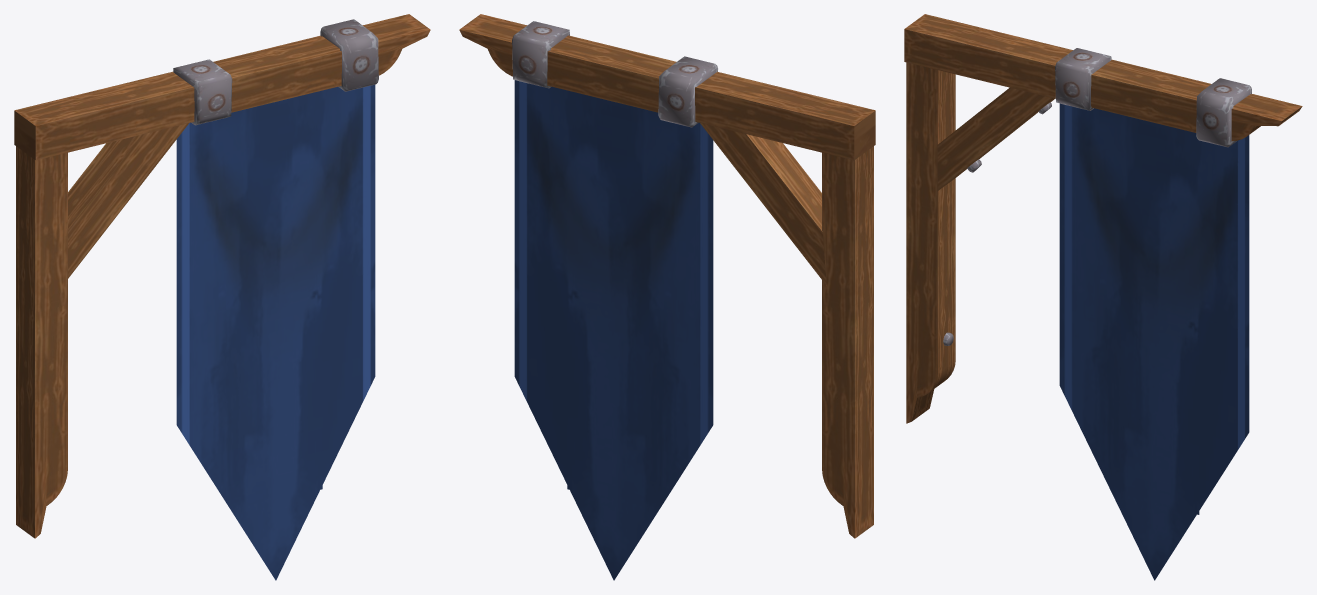
The model's file is Banner_2.gltf.
The picture shows the model from 3 angles, left to right: view 1: azimuth 30°, elevation 25°; view 2: azimuth 150°, elevation 25°; view 3: azimuth 330°, elevation 25°; orthographic projection. The views are drawn at different scales.
Visible parts, largest first — view 1: Banner_2; view 2: Banner_2; view 3: Banner_2.
Boxes of the visible parts, left/top/right/bottom form: Banner_2: left=14, top=14, right=430, bottom=580; Banner_2: left=459, top=14, right=875, bottom=580; Banner_2: left=904, top=14, right=1302, bottom=580.
Bounding box in the file's own units: 1.61 × 2.08 × 0.1906.
Materials: 3 (3 with a texture image).
